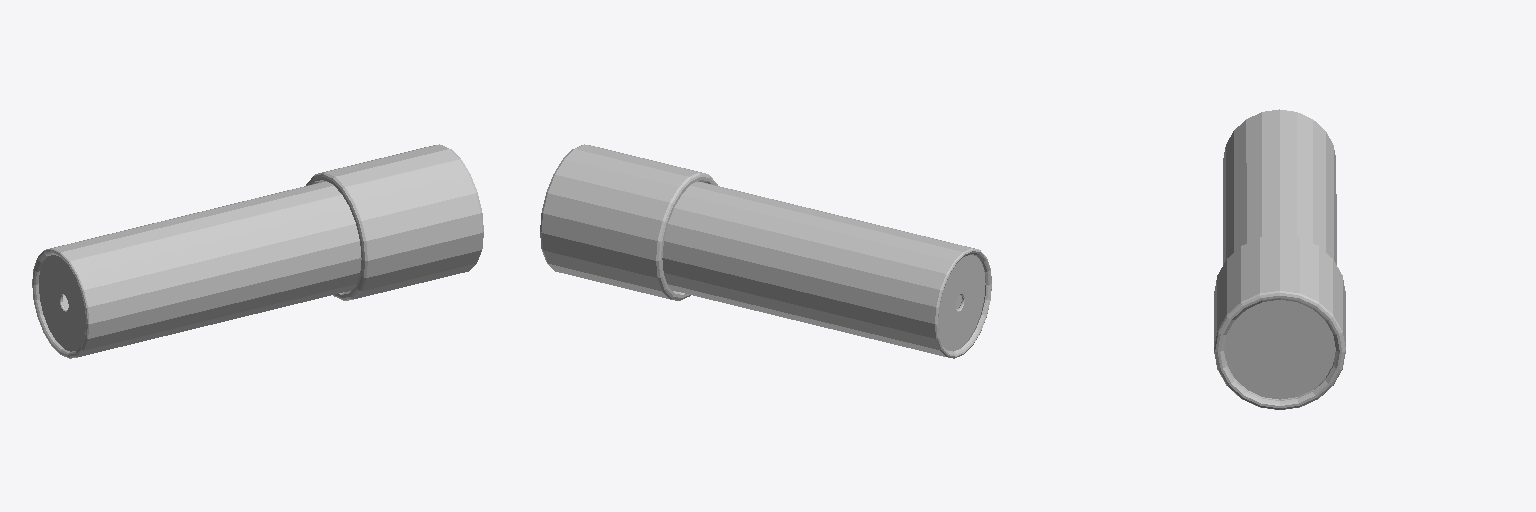
Rendered from Kaleidoscope.obj.
The picture shows the model from 3 angles: view 1: azimuth 30°, elevation 25°; view 2: azimuth 150°, elevation 25°; view 3: azimuth 270°, elevation 25°; orthographic projection.
Parts seen in each view (by area): view 1: Kaleidoscope_grp Body_geo, Bottom_geo Kaleidoscope_grp; view 2: Kaleidoscope_grp Body_geo, Bottom_geo Kaleidoscope_grp; view 3: Kaleidoscope_grp Body_geo, Kaleidoscope_grp Glass_geo.
Boxes of the visible parts, <box> form: Kaleidoscope_grp Body_geo: <box>32,144,483,358</box>; Bottom_geo Kaleidoscope_grp: <box>39,255,85,351</box>; Kaleidoscope_grp Body_geo: <box>540,144,991,358</box>; Bottom_geo Kaleidoscope_grp: <box>938,255,985,351</box>; Kaleidoscope_grp Body_geo: <box>1214,109,1345,409</box>; Kaleidoscope_grp Glass_geo: <box>1224,300,1335,399</box>.
Bounding box in the file's own units: 33.17 × 9.65 × 9.65.